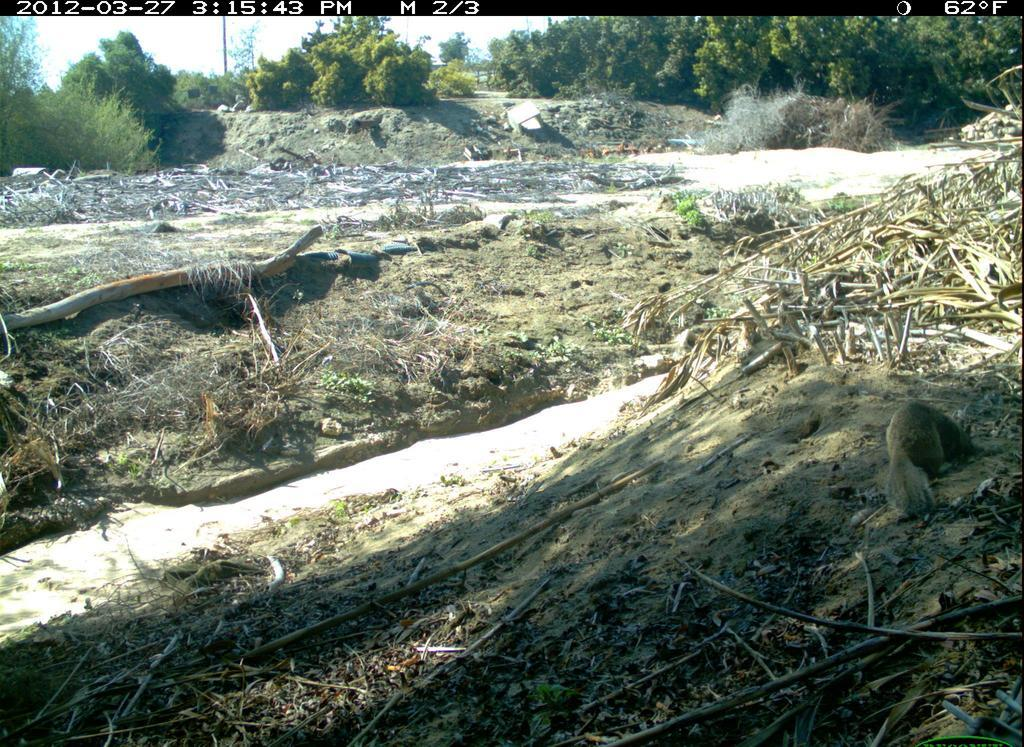squirrel: (856, 386, 994, 514)
